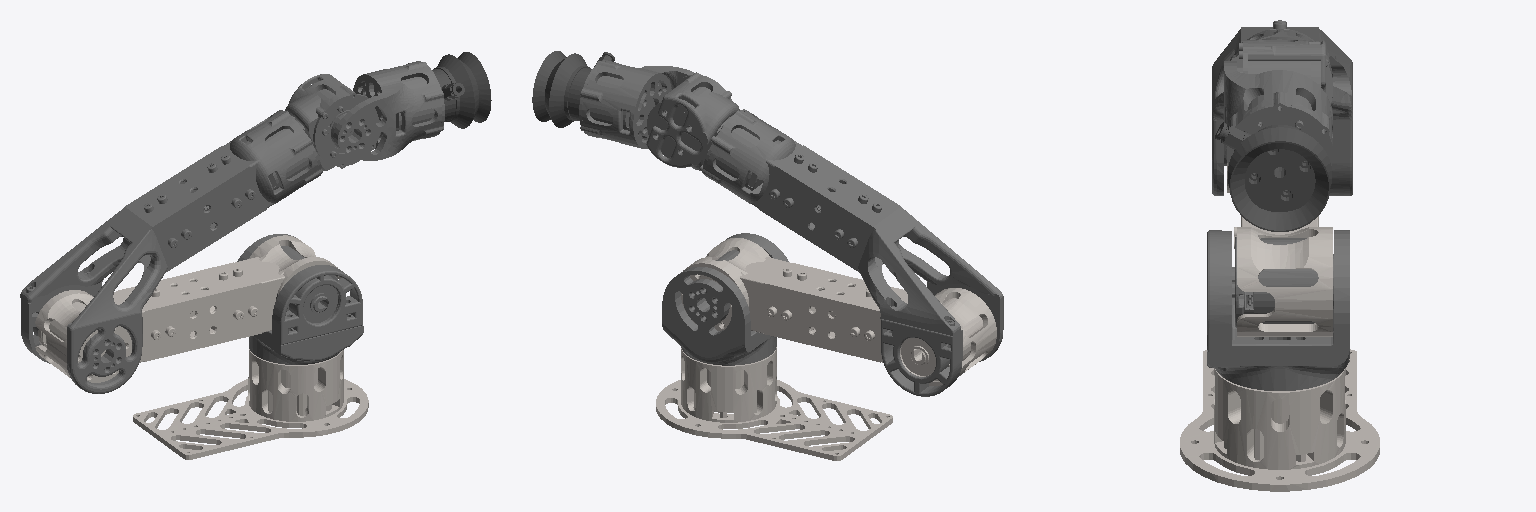
URDF robot description (toe_arm):
<?xml version="1.0" encoding="utf-8"?>
<!-- This URDF was automatically created by SolidWorks to URDF Exporter! Originally created by Stephen Brawner (brawner@gmail.com) 
     Commit Version: 1.6.0-4-g7f85cfe  Build Version: 1.6.7995.38578
     For more information, please see http://wiki.ros.org/sw_urdf_exporter -->
<robot
  name="toe_arm">
   <mujoco>
        <compiler 
        meshdir="meshes/" 
        balanceinertia="true" 
        discardvisual="false" />
  </mujoco>
  <link
    name="base_link">
    <inertial>
      <origin
        xyz="-0.010125 7.8687E-05 0.023464"
        rpy="0 0 0" />
      <mass
        value="0.5726" />
      <inertia
        ixx="0.0004"
        ixy="0.0"
        ixz="-0.0001"
        iyy="0.0008"
        iyz="0.0"
        izz="0.0009" />
    </inertial>
    <visual>
      <origin
        xyz="0 0 0"
        rpy="0 0 0" />
      <geometry>
        <mesh
          filename="package://src/meshes/base_link.STL" />
      </geometry>
      <material
        name="">
        <color
          rgba="0.77647 0.75686 0.73725 1" />
      </material>
    </visual>
    <collision>
      <origin
        xyz="0 0 0"
        rpy="0 0 0" />
      <geometry>
        <mesh
          filename="package://src/meshes/base_link.STL" />
      </geometry>
    </collision>
  </link>
  <link
    name="Link_1">
    <inertial>
      <origin
        xyz="-1.18882713171813E-05 -0.00820932587223875 0.0980914318116241"
        rpy="0 0 0" />
      <mass
        value="0.6931" />
      <inertia
        ixx="0.0007"
        ixy="0.0"
        ixz="0.0"
        iyy="0.0004"
        iyz="0.0"
        izz="0.0006" />
    </inertial>
    <visual>
      <origin
        xyz="0 0 0"
        rpy="0 0 0" />
      <geometry>
        <mesh
          filename="package://src/meshes/Link_1.STL" />
      </geometry>
      <material
        name="">
        <color
          rgba="0.498039215686275 0.498039215686275 0.498039215686275 1" />
      </material>
    </visual>
    <collision>
      <origin
        xyz="0 0 0"
        rpy="0 0 0" />
      <geometry>
        <mesh
          filename="package://src/meshes/Link_1.STL" />
      </geometry>
    </collision>
  </link>
  <joint
    name="Joint_1"
    type="revolute">
    <origin
      xyz="0 0 0.00525"
      rpy="0 0 0" />
    <parent
      link="base_link" />
    <child
      link="Link_1" />
    <axis
      xyz="0 0 -1" />
    <limit
      lower="-3.14"
      upper="3.14"
      effort="14"
      velocity="36" />
  </joint>
  <link
    name="Link_2">
    <inertial>
      <origin
        xyz="-0.147157159914141 -0.020973241968873 -0.000580024451612732"
        rpy="0 0 0" />
      <mass
        value="0.9140" />
      <inertia
        ixx="0.0005"
        ixy="0.0"
        ixz="0.0"
        iyy="0.0053"
        iyz="0.0"
        izz="0.0055" />
    </inertial>
    <visual>
      <origin
        xyz="0 0 0"
        rpy="0 0 0" />
      <geometry>
        <mesh
          filename="package://src/meshes/Link_2.STL" />
      </geometry>
      <material
        name="">
        <color
          rgba="0.776470588235294 0.756862745098039 0.737254901960784 1" />
      </material>
    </visual>
    <collision>
      <origin
        xyz="0 0 0"
        rpy="0 0 0" />
      <geometry>
        <mesh
          filename="package://src/meshes/Link_2.STL" />
      </geometry>
    </collision>
  </link>
  <joint
    name="Joint_2"
    type="revolute">
    <origin
      xyz="0 0.02605 0.1113"
      rpy="0 0 0" />
    <parent
      link="Link_1" />
    <child
      link="Link_2" />
    <axis
      xyz="0 -1 0" />
    <limit
      lower="0.0"
      upper="3.14"
      effort="14"
      velocity="36" />
  </joint>
  <link
    name="Link_3">
    <inertial>
      <origin
        xyz="0.0949410263657633 0.0286370833882254 0.0819413772048641"
        rpy="0 0 0" />
      <mass
        value="0.8089920" />
      <inertia
        ixx="0.0018655"
        ixy="0.0001506"
        ixz="-0.0023529"
        iyy="0.0061898"
        iyz="0.0000751"
        izz="0.0050062" />
    </inertial>
    <visual>
      <origin
        xyz="0 0 0"
        rpy="0 0 0" />
      <geometry>
        <mesh
          filename="package://src/meshes/Link_3.STL" />
      </geometry>
      <material
        name="">
        <color
          rgba="0.498039215686275 0.498039215686275 0.498039215686275 1" />
      </material>
    </visual>
    <collision>
      <origin
        xyz="0 0 0"
        rpy="0 0 0" />
      <geometry>
        <mesh
          filename="package://src/meshes/Link_3.STL" />
      </geometry>
    </collision>
  </link>
  <joint
    name="Joint_3"
    type="revolute">
    <origin
      xyz="-0.22 -0.0521 0"
      rpy="0 0 0" />
    <parent
      link="Link_2" />
    <child
      link="Link_3" />
    <axis
      xyz="0 1 0" />
    <limit
      lower="0.0"
      upper="3.14"
      effort="14"
      velocity="36" />
  </joint>
  <link
    name="Link_4">
    <inertial>
      <origin
        xyz="0.0260224040464971 -0.00155889246512779 0.00998060083440483"
        rpy="0 0 0" />
      <mass
        value="0.4021" />
      <inertia
        ixx="0.0001"
        ixy="0.0"
        ixz="0.0"
        iyy="0.0001"
        iyz="0.0"
        izz="0.0001" />
    </inertial>
    <visual>
      <origin
        xyz="0 0 0"
        rpy="0 0 0" />
      <geometry>
        <mesh
          filename="package://src/meshes/Link_4.STL" />
      </geometry>
      <material
        name="">
        <color
          rgba="0.498039215686275 0.498039215686275 0.498039215686275 1" />
      </material>
    </visual>
    <collision>
      <origin
        xyz="0 0 0"
        rpy="0 0 0" />
      <geometry>
        <mesh
          filename="package://src/meshes/Link_4.STL" />
      </geometry>
    </collision>
  </link>
  <joint
    name="Joint_4"
    type="revolute">
    <origin
      xyz="0.22217 0.02605 0.13945"
      rpy="0 0 0" />
    <parent
      link="Link_3" />
    <child
      link="Link_4" />
    <axis
      xyz="-0.93969 0 -0.34202" />
    <limit
      lower="-3.0"
      upper="3.0"
      effort="3.5"
      velocity="120" />
  </joint>
  <link
    name="Link_5">
    <inertial>
      <origin
        xyz="0.0528311675191753 0.0120610668030597 0.00019797509357522"
        rpy="0 0 0" />
      <mass
        value="0.4232" />
      <inertia
        ixx="0.0001434"
        ixy="-0.0000398"
        ixz="0.0000003"
        iyy="0.0001888"
        iyz="-0.0000006"
        izz="0.0002021" />
    </inertial>
    <visual>
      <origin
        xyz="0 0 0"
        rpy="0 0 0" />
      <geometry>
        <mesh
          filename="package://src/meshes/Link_5.STL" />
      </geometry>
      <material
        name="">
        <color
          rgba="0.498039215686275 0.498039215686275 0.498039215686275 1" />
      </material>
    </visual>
    <collision>
      <origin
        xyz="0 0 0"
        rpy="0 0 0" />
      <geometry>
        <mesh
          filename="package://src/meshes/Link_5.STL" />
      </geometry>
    </collision>
  </link>
  <joint
    name="Joint_5"
    type="revolute">
    <origin
      xyz="0.038058 -0.0208 0.013852"
      rpy="0 0 0" />
    <parent
      link="Link_4" />
    <child
      link="Link_5" />
    <axis
      xyz="0 1 0" />
    <limit
      lower="-2.1"
      upper="1.0"
      effort="3.5"
      velocity="120" />
  </joint>
  <link
    name="Link_6">
    <inertial>
      <origin
        xyz="0.0210182676985518 -0.00109339055369358 0.000631189011174482"
        rpy="0 0 0" />
      <mass
        value="0.0503372" />
      <inertia
        ixx="0.0000225"
        ixy="-0.0000005"
        ixz="0.0000003"
        iyy="0.0000158"
        iyz="0.0000009"
        izz="0.0000168" />
    </inertial>
    <visual>
      <origin
        xyz="0 0 0"
        rpy="0 0 0" />
      <geometry>
        <mesh
          filename="package://src/meshes/Link_6.STL" />
      </geometry>
      <material
        name="">
        <color
          rgba="0.372549019607843 0.372549019607843 0.372549019607843 1" />
      </material>
    </visual>
    <collision>
      <origin
        xyz="0 0 0"
        rpy="0 0 0" />
      <geometry>
        <mesh
          filename="package://src/meshes/Link_6.STL" />
      </geometry>
    </collision>
  </link>
  <joint
    name="Joint_6"
    type="revolute">
    <origin
      xyz="0.09205 0.0208 0"
      rpy="0 0 0" />
    <parent
      link="Link_5" />
    <child
      link="Link_6" />
    <axis
      xyz="-1 0 0" />
    <limit
      lower="-3.14"
      upper="3.14"
      effort="3.5"
      velocity="120" />
  </joint>
</robot>

--- Render facts (derived) ---
Views: 3 orthographic renders of the robot side by side, from view 1: azimuth 30°, elevation 25°; view 2: azimuth 150°, elevation 25°; view 3: azimuth 270°, elevation 25°.
Robot: toe_arm — 7 links, 6 joints (6 revolute); root link base_link; default pose: all joints at 0.
Links seen in each view (by area): view 1: Link_3, Link_2, base_link, Link_1, Link_5, Link_4, Link_6; view 2: Link_3, Link_2, base_link, Link_1, Link_5, Link_4, Link_6; view 3: base_link, Link_1, Link_6, Link_2, Link_5, Link_3, Link_4.
Boxes of the visible links, x1,y1,x2,y2 form: Link_3: (20, 110, 322, 393); Link_2: (35, 235, 341, 382); base_link: (133, 349, 368, 459); Link_1: (237, 234, 363, 364); Link_5: (331, 61, 444, 160); Link_4: (285, 74, 379, 170); Link_6: (432, 52, 491, 128); Link_3: (700, 109, 1003, 396); Link_2: (681, 238, 996, 385); base_link: (656, 347, 892, 460); Link_1: (662, 233, 788, 365); Link_5: (579, 60, 693, 148); Link_4: (646, 72, 739, 170); Link_6: (532, 51, 614, 127); base_link: (1180, 349, 1379, 491); Link_1: (1207, 230, 1349, 390); Link_6: (1215, 122, 1331, 231); Link_2: (1227, 163, 1332, 336); Link_5: (1224, 61, 1332, 165); Link_3: (1212, 20, 1352, 195); Link_4: (1239, 37, 1325, 92).
Size in the robot's own frame: 0.4403 by 0.1299 by 0.3089 metres.
7 mesh visuals loaded from 7 distinct referenced files (7 binary STL).
